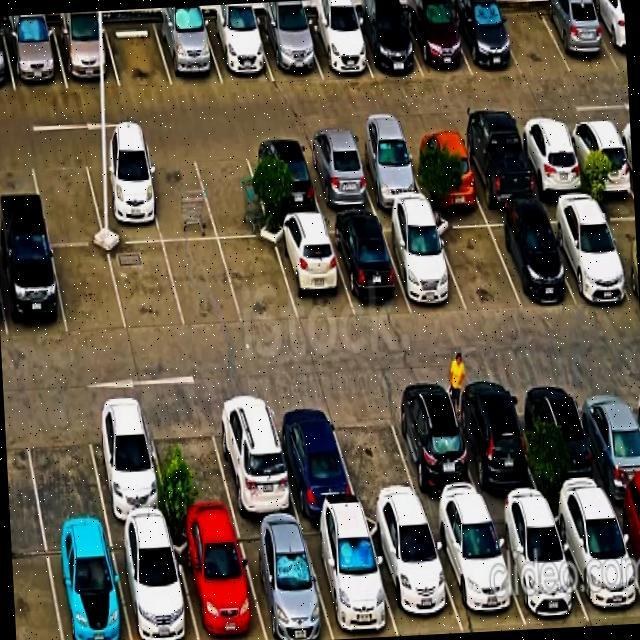Car: (569, 512, 640, 627), (217, 426, 290, 537), (251, 531, 322, 640), (383, 526, 453, 636), (317, 526, 384, 640), (94, 434, 166, 540), (181, 535, 253, 640), (446, 520, 512, 634), (400, 406, 468, 516), (511, 515, 574, 630), (49, 546, 123, 640), (287, 426, 349, 538), (463, 402, 526, 508), (564, 206, 626, 313), (528, 390, 588, 500), (120, 542, 186, 640), (396, 216, 457, 316), (507, 210, 566, 312), (91, 145, 155, 238), (417, 120, 474, 220), (474, 123, 530, 223), (342, 216, 398, 316), (250, 138, 314, 225), (586, 395, 640, 498), (280, 225, 341, 316), (577, 117, 631, 215), (526, 123, 580, 220), (2, 250, 61, 336), (361, 131, 415, 218), (161, 5, 215, 90), (312, 136, 364, 218), (360, 0, 414, 78), (213, 3, 264, 82), (313, 0, 363, 80), (264, 0, 314, 79), (411, 0, 462, 75), (59, 11, 109, 85), (460, 0, 509, 73), (9, 14, 56, 90), (548, 0, 600, 61)
Vacant: (30, 426, 102, 544), (160, 427, 227, 536), (341, 420, 412, 522), (446, 222, 512, 314), (114, 236, 174, 328), (57, 247, 119, 335), (152, 146, 208, 242), (207, 142, 264, 234), (36, 162, 96, 246), (225, 234, 283, 320), (109, 8, 165, 92), (171, 236, 228, 318), (502, 0, 556, 70)
